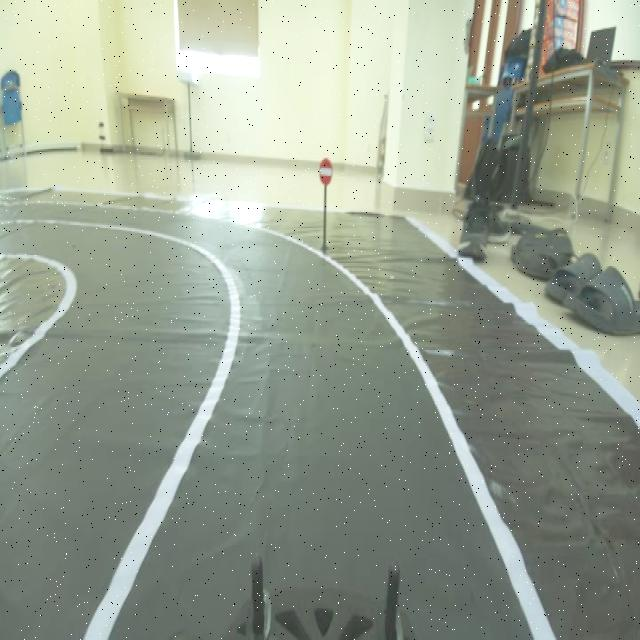no_entry: (313, 155, 341, 190)
